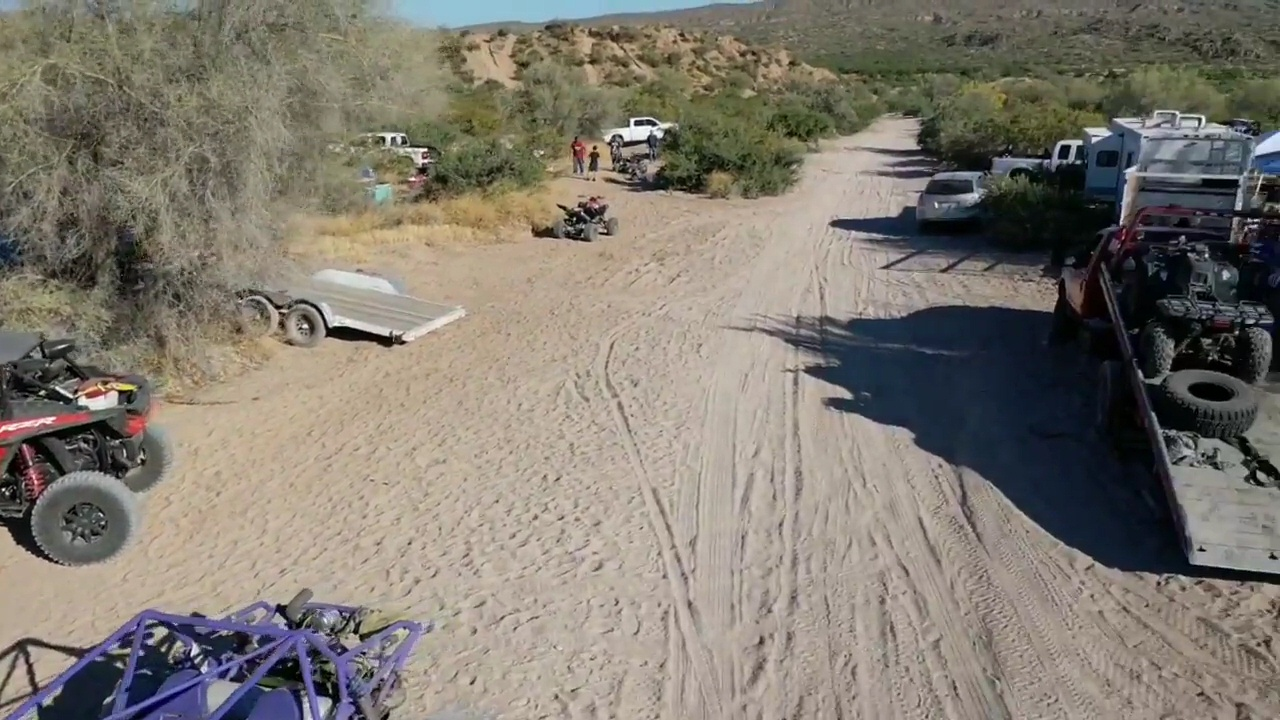araba: (915, 160, 1001, 228)
insan: (566, 133, 587, 174), (586, 142, 604, 184), (607, 135, 626, 170), (644, 127, 662, 157)
kamyonet: (602, 109, 684, 146)
